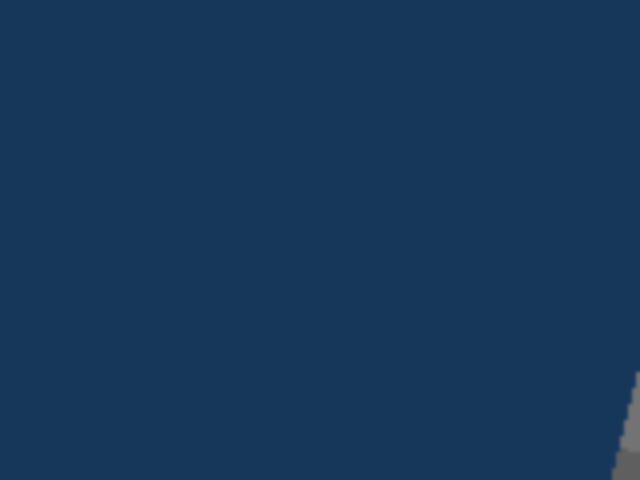obstacle: (88, 163, 140, 200)
